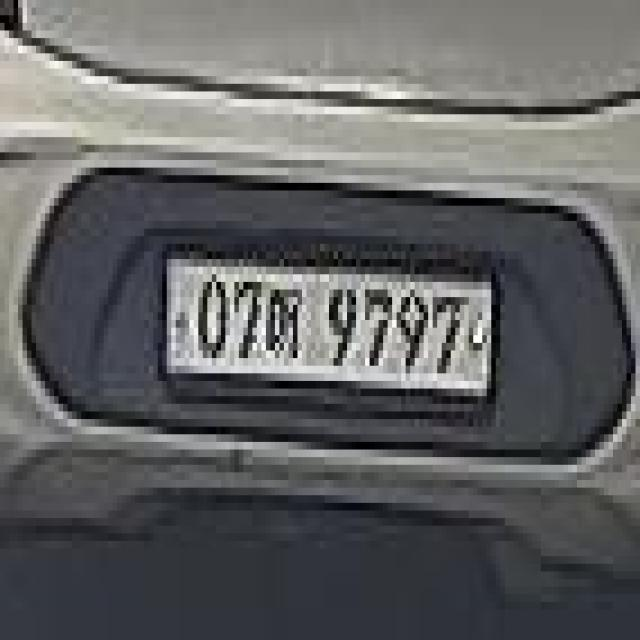illegal_plate: (161, 238, 501, 421)
